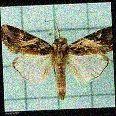Spodoptera litura: (3, 17, 113, 101)
